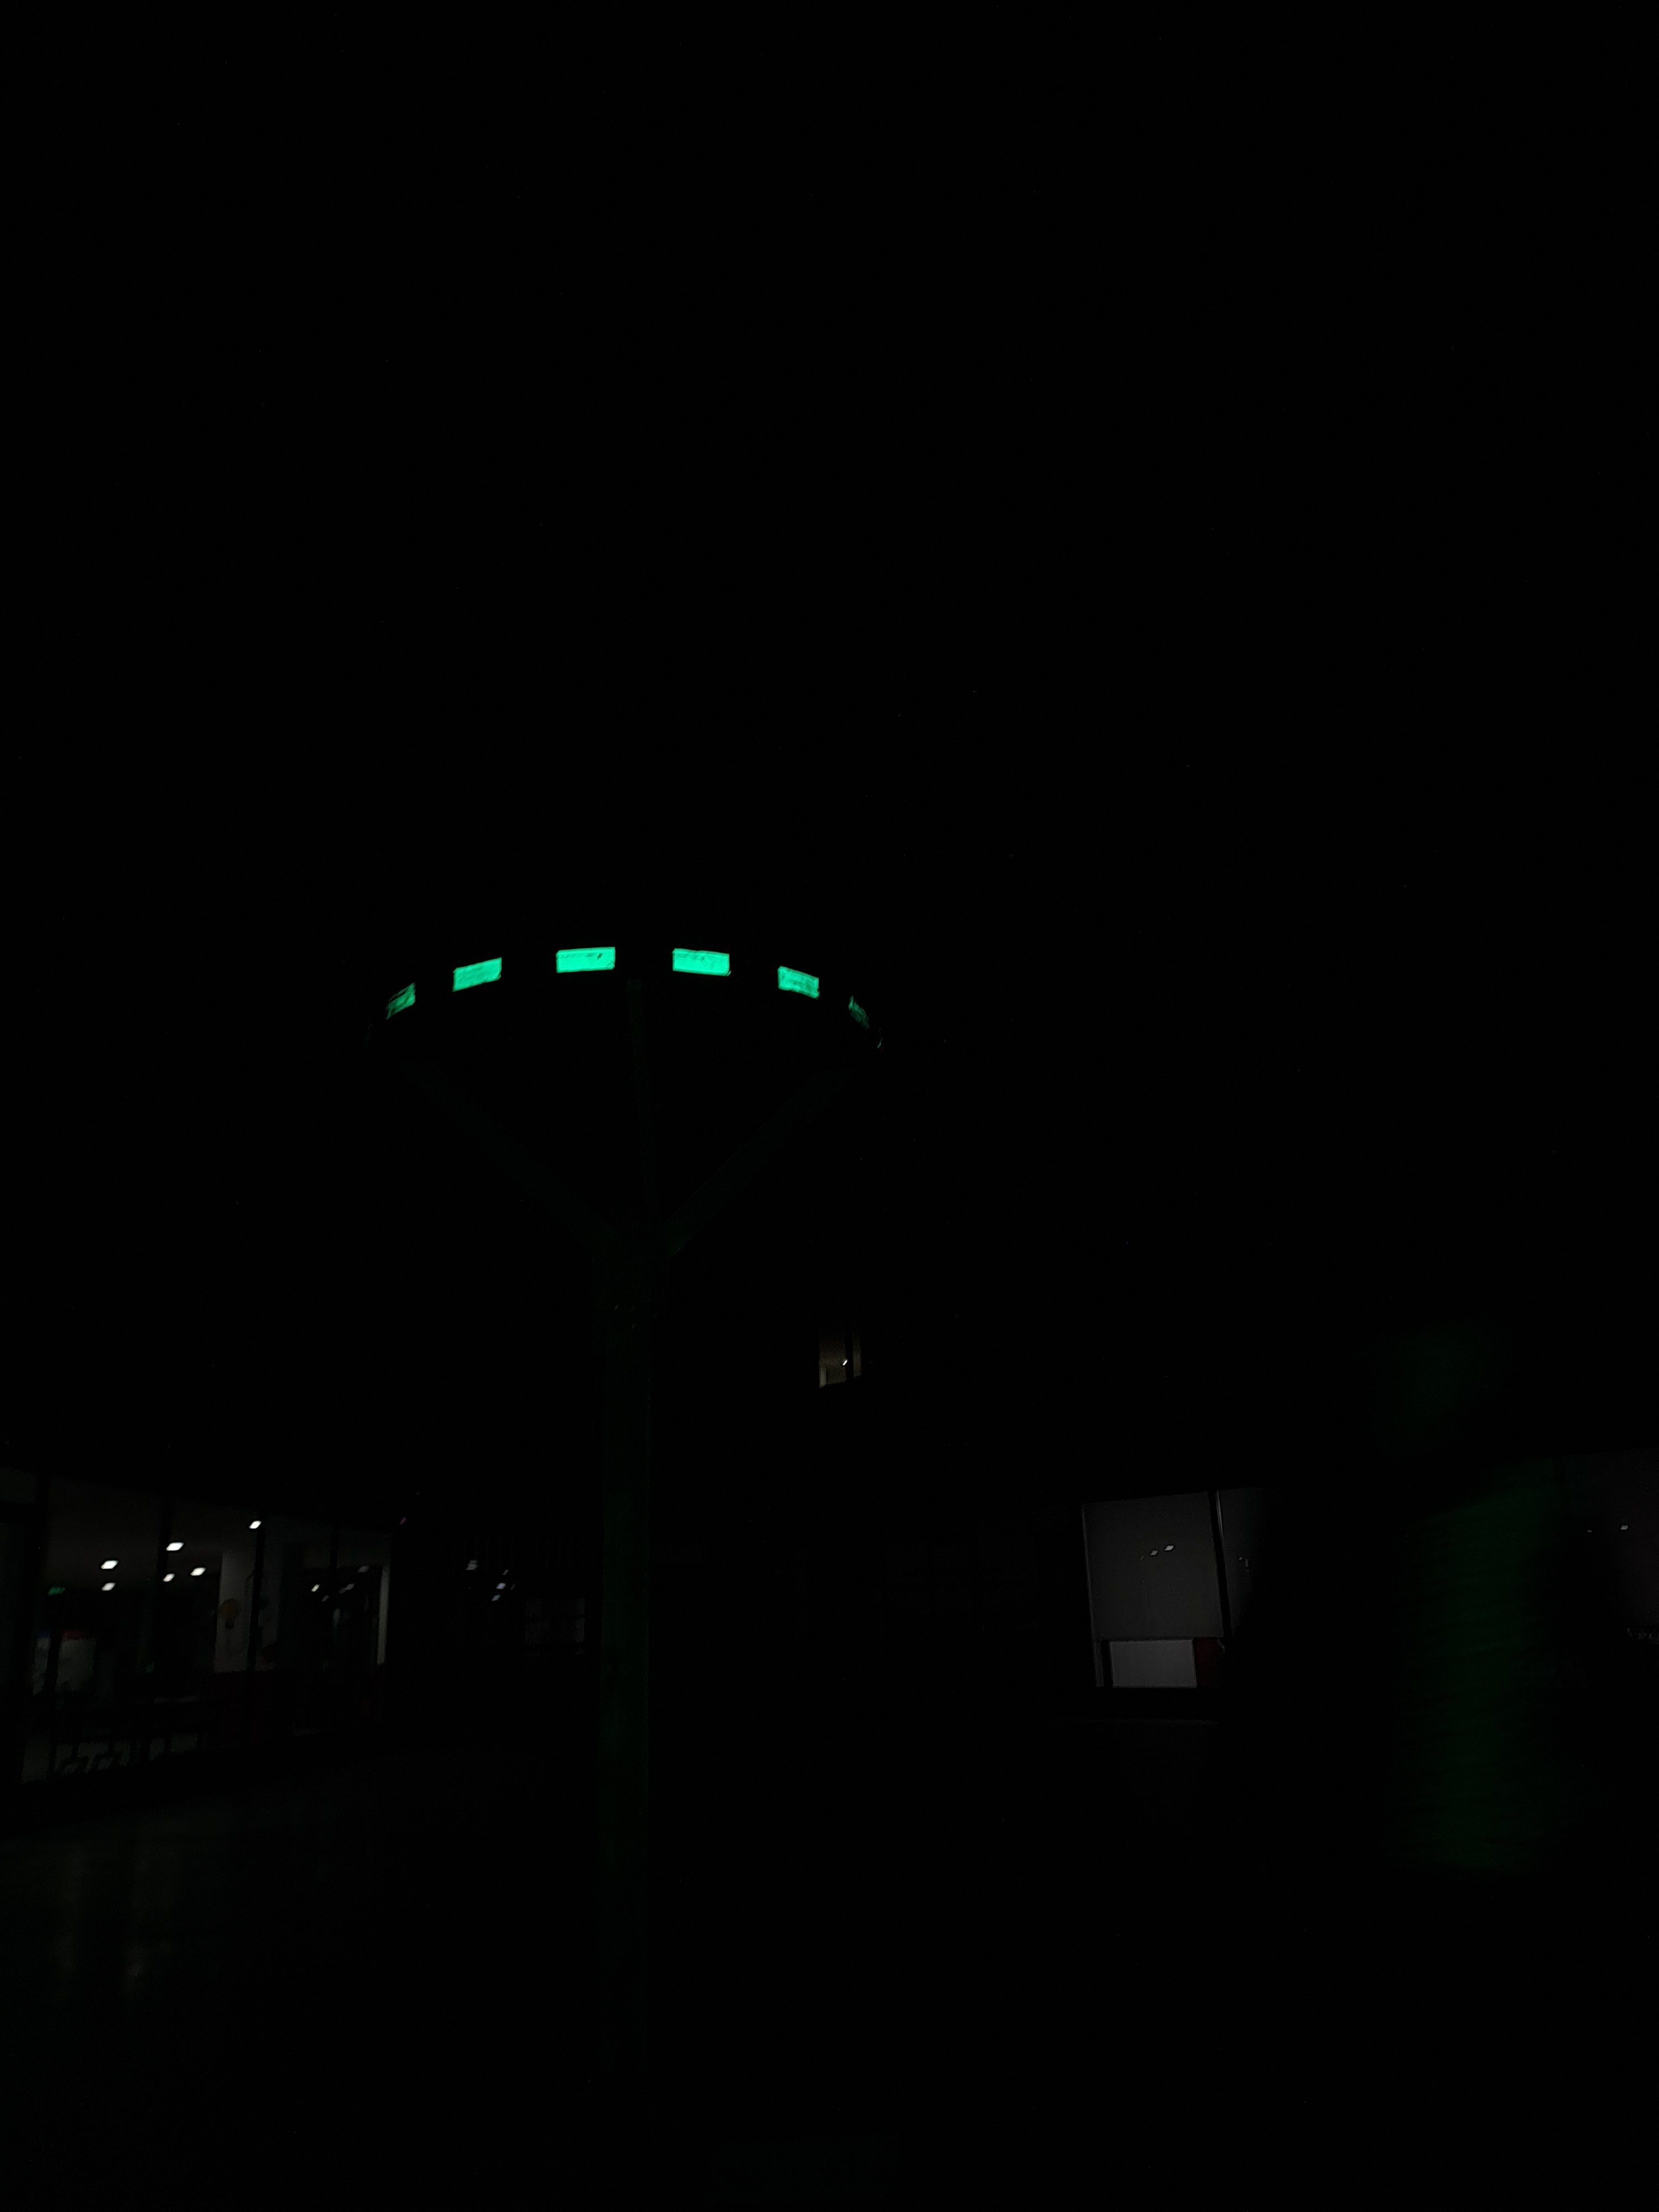hoop: (380, 941, 826, 1031)
